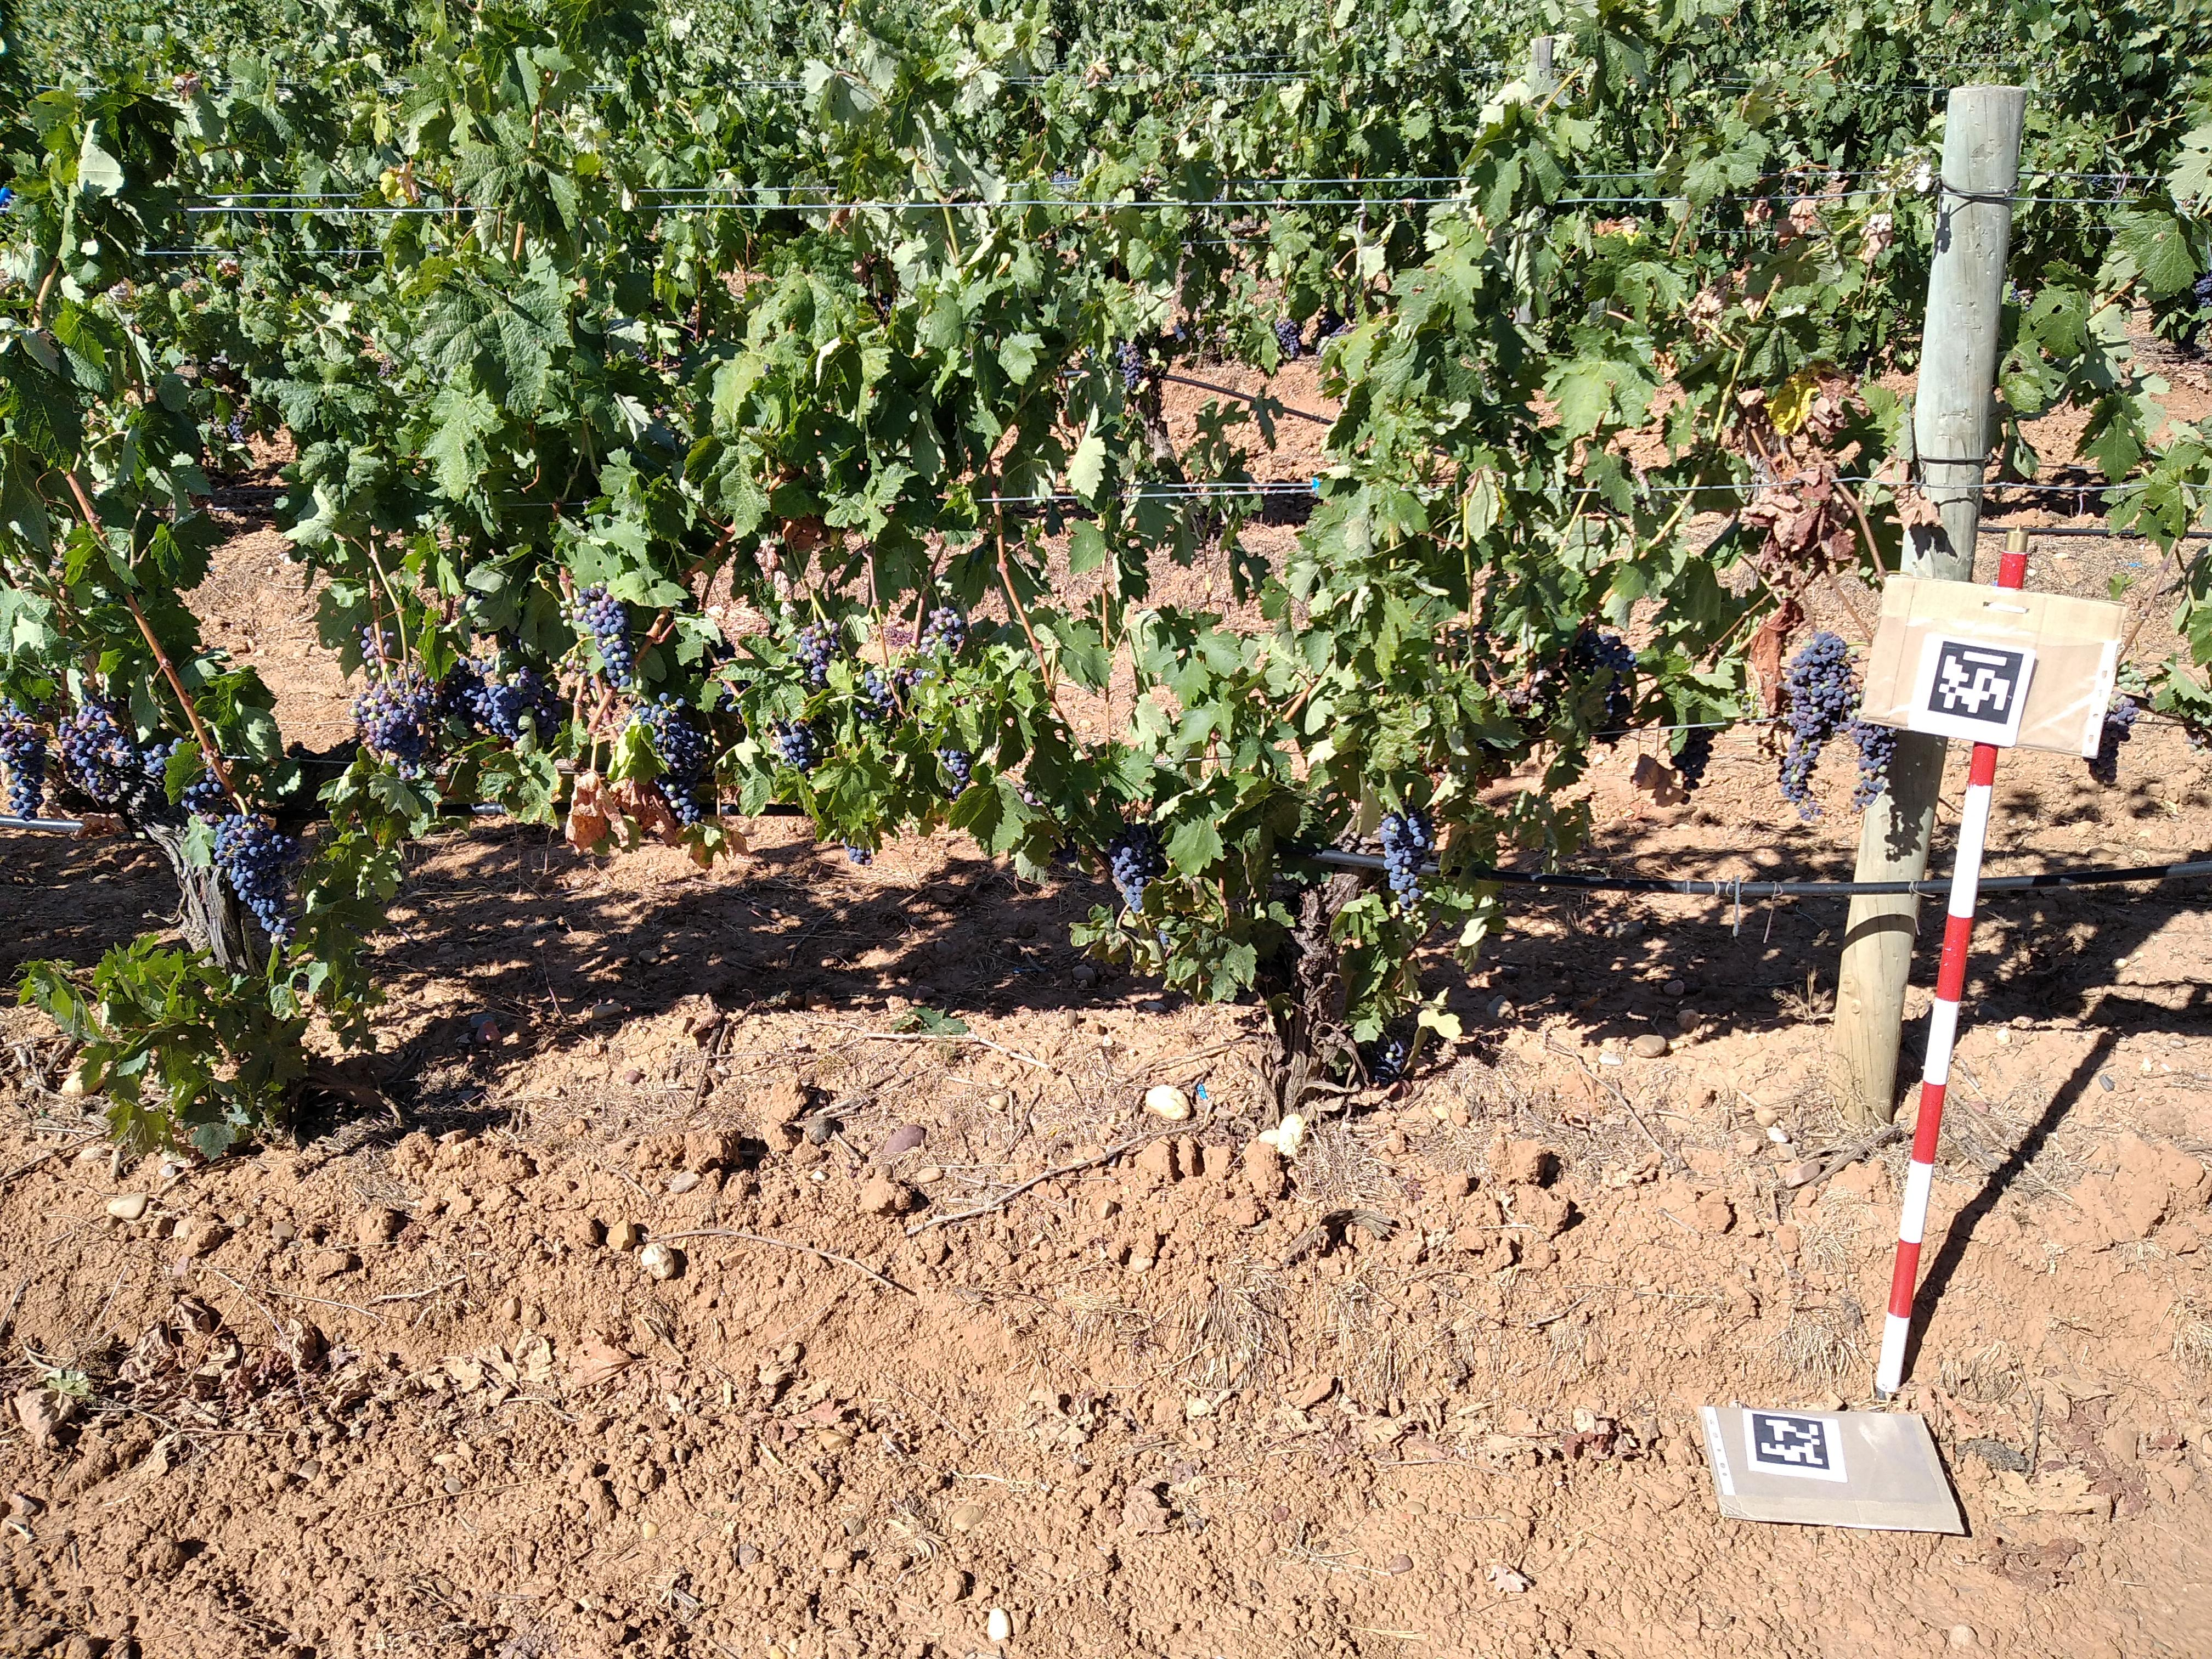QR: (1928, 641, 2020, 720), (1752, 1405, 1829, 1471)
